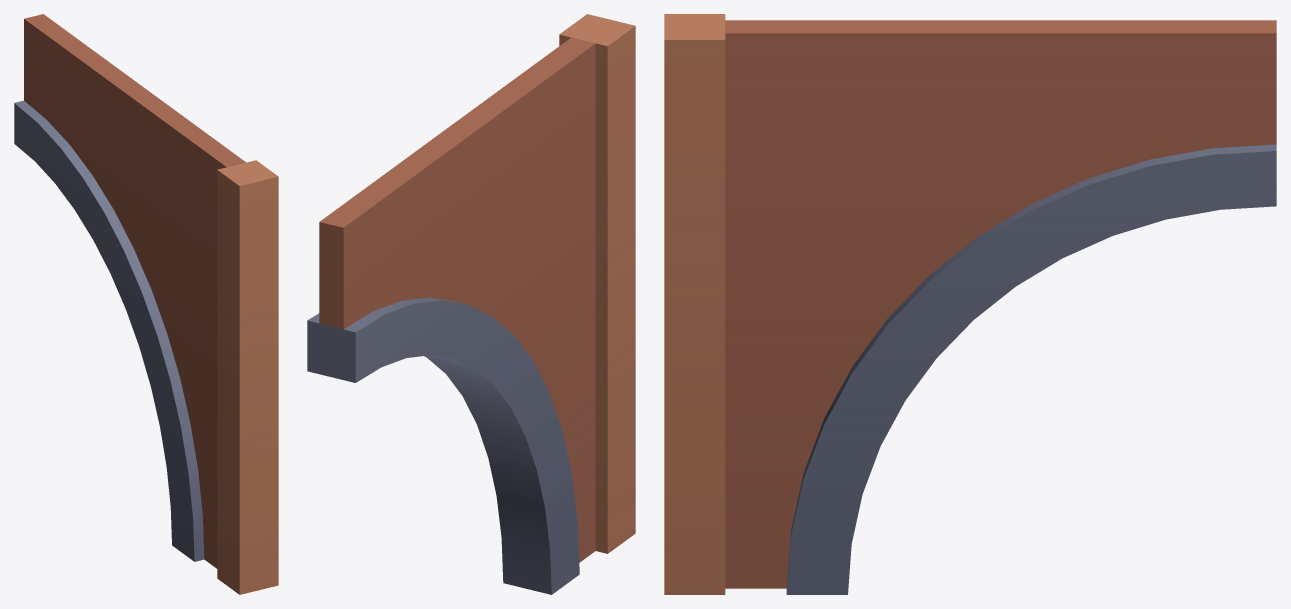
File: wall-wood-arch-top.fbx
3 renders of one model, left to right at view 1: azimuth 30°, elevation 25°; view 2: azimuth 150°, elevation 25°; view 3: azimuth 270°, elevation 25°, orthographic. The views are drawn at different scales.
Parts seen in each view (by area): view 1: wall-wood-arch-top; view 2: wall-wood-arch-top; view 3: wall-wood-arch-top.
Part boxes in pixels (box(x1,y1,x2,y2)): wall-wood-arch-top: box(14, 14, 278, 594); wall-wood-arch-top: box(307, 14, 635, 594); wall-wood-arch-top: box(664, 14, 1276, 594).
Bounding box in the file's own units: 10 × 100 × 100.
Materials: 1 (1 with a texture image).
